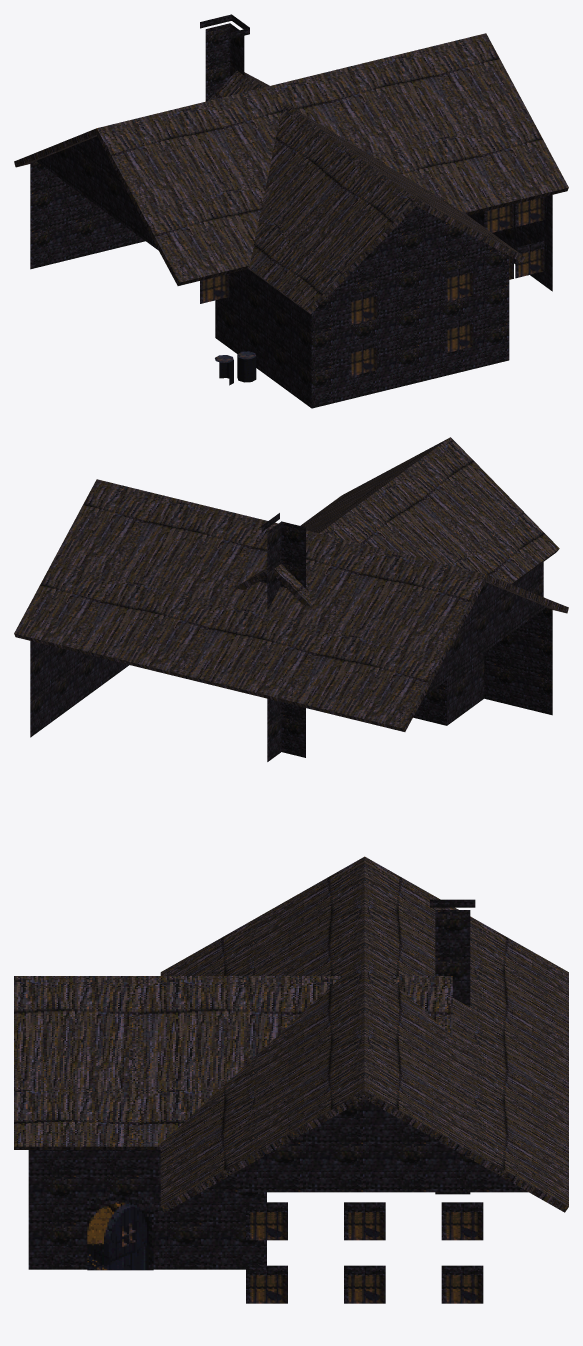
3 renders of one model, top to bottom at view 1: azimuth 30°, elevation 25°; view 2: azimuth 150°, elevation 25°; view 3: azimuth 270°, elevation 25°, orthographic. The views are drawn at different scales.
Parts seen in each view (by area): view 1: b_46_54; view 2: b_46_54; view 3: b_46_54.
Part boxes in pixels (x1,y1,x2,y2): b_46_54: (14, 14, 568, 408); b_46_54: (14, 437, 568, 761); b_46_54: (14, 856, 568, 1303).
Bounding box in the file's own units: 15.9 × 9.25 × 15.9.
6 materials, 6 textured.
